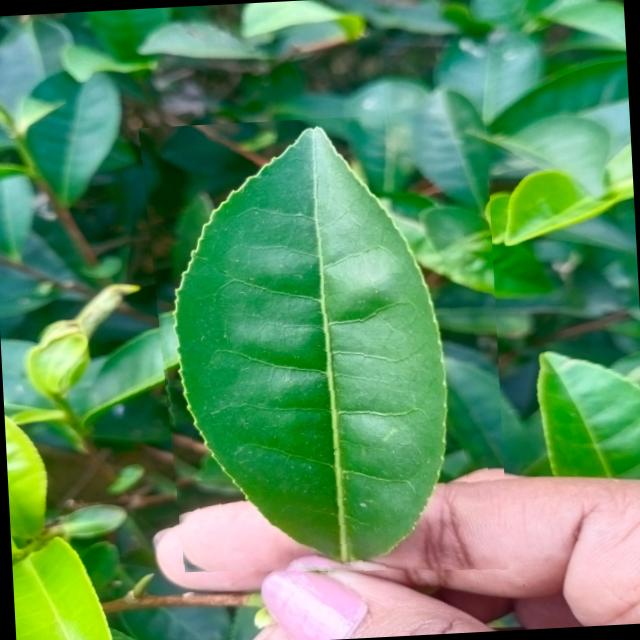Category D 7+ days, Not for Tea: (138, 110, 510, 589)
